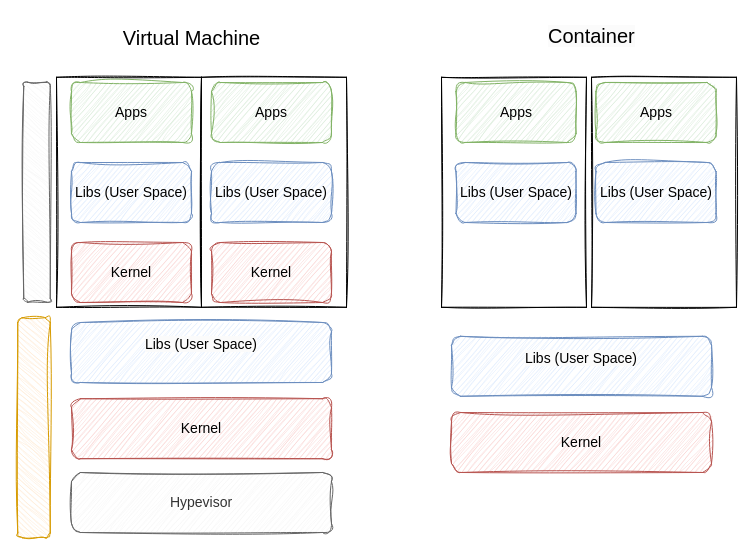
Some shapes in this 754 by 555 pixel diagram are drawn without their labels. Here are the shapes that lost their labels. From the top down, the centre of each, then its label:
At point 36,191: "Virtualization".
At point 33,427: "Host".
